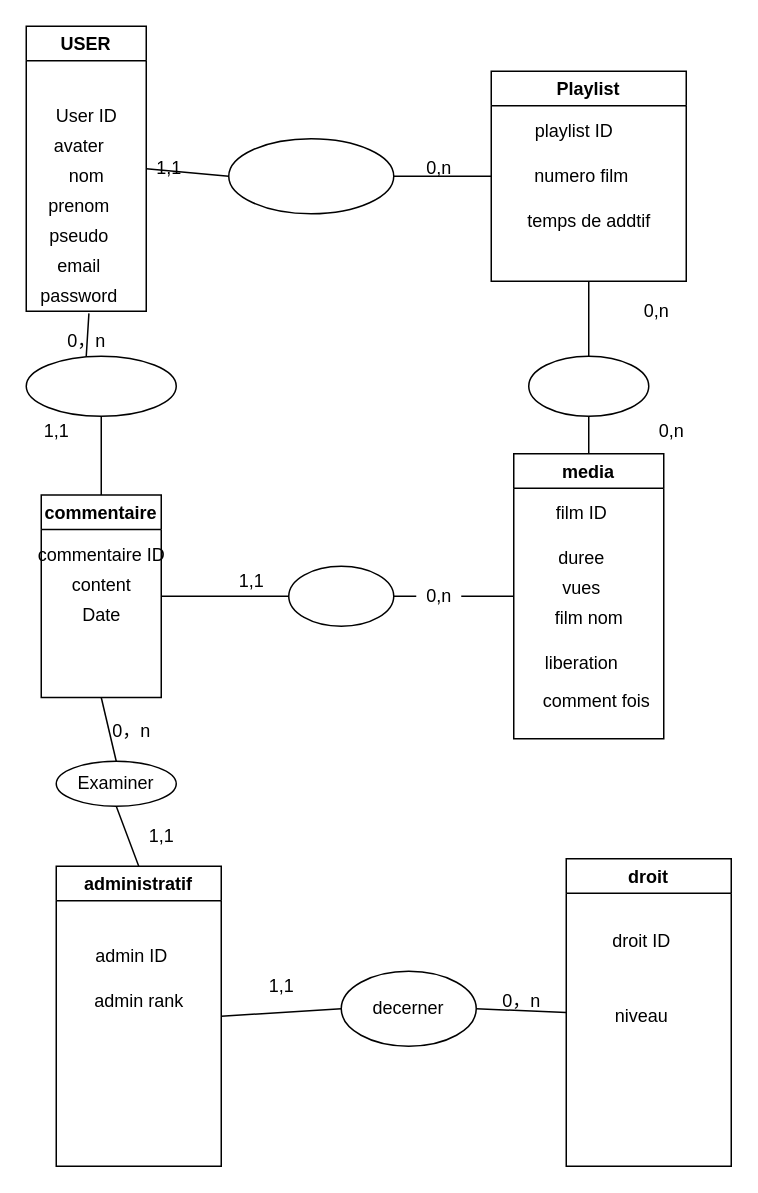
This 758x1193 diagram has some shape labels left out. Here are the shapes that lost their labels. From the top down, the centre of each, then its label:
At (310,175): "collector".
At (100,385): "publier".
At (588,385): "donnee".
At (340,595): "appartenir".
